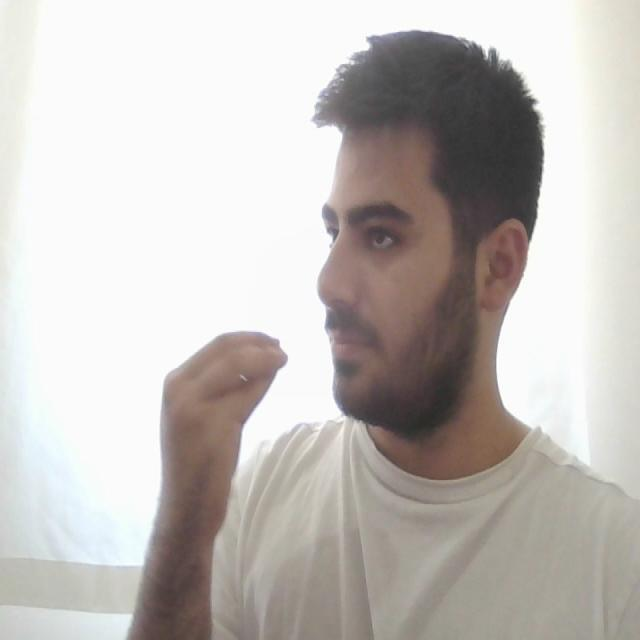Yemek: (156, 316, 382, 434)
